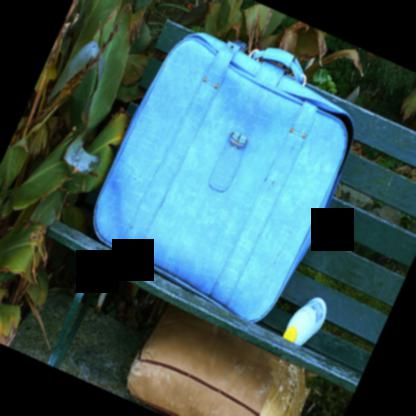suitcase: (92, 31, 355, 326)
